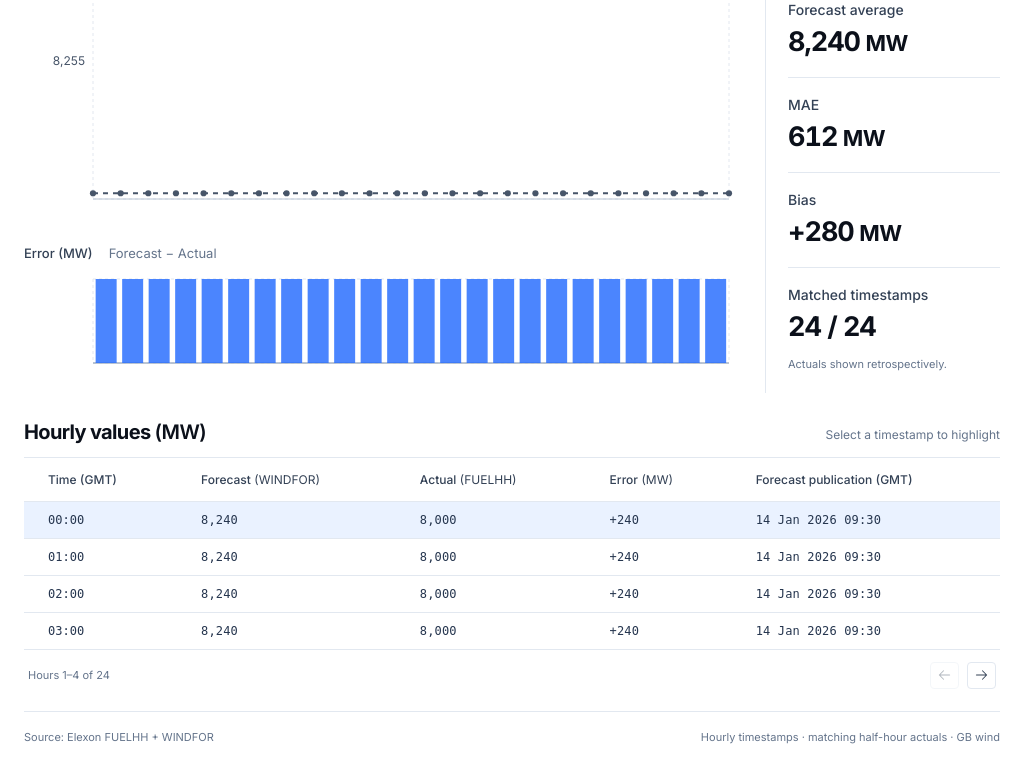
Scenario: core workflow › navigates accuracy and methodology and paginates table
The image size is (1024, 768).
(page scrolled)
Expected: the text "8,240" is shown, [788,25,860,58]
Step 1. Click the button named "Next hours" → (982, 675), box [967,662,996,689]
(page scrolled)
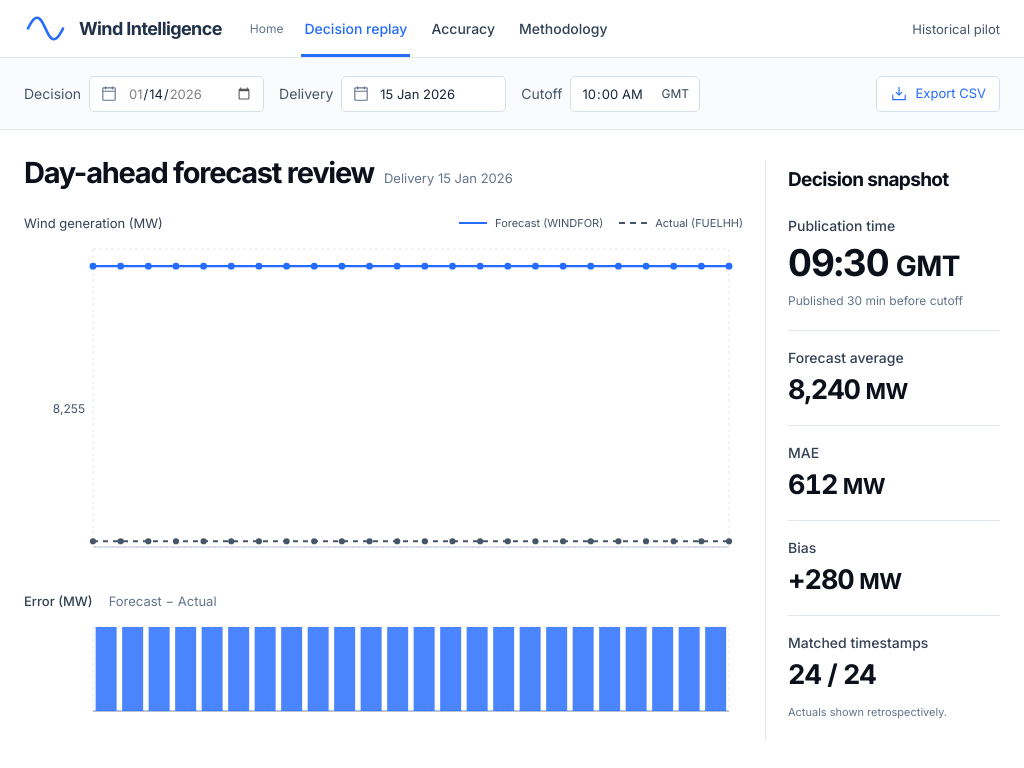
Step 2. Click the tab "Accuracy" → (463, 28), box [428,0,498,57]
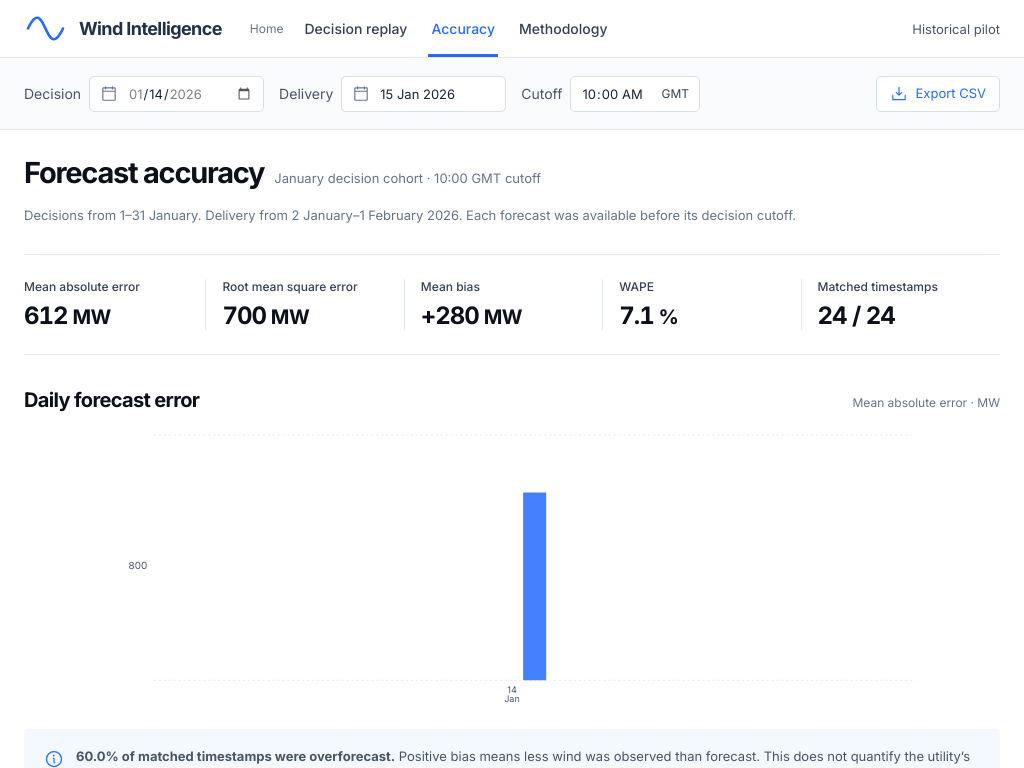
Expected: the heading "Forecast accuracy" is shown, [24,156,264,191]
Step 3. Click the tab "Methodology" → (563, 28), box [516,0,610,57]
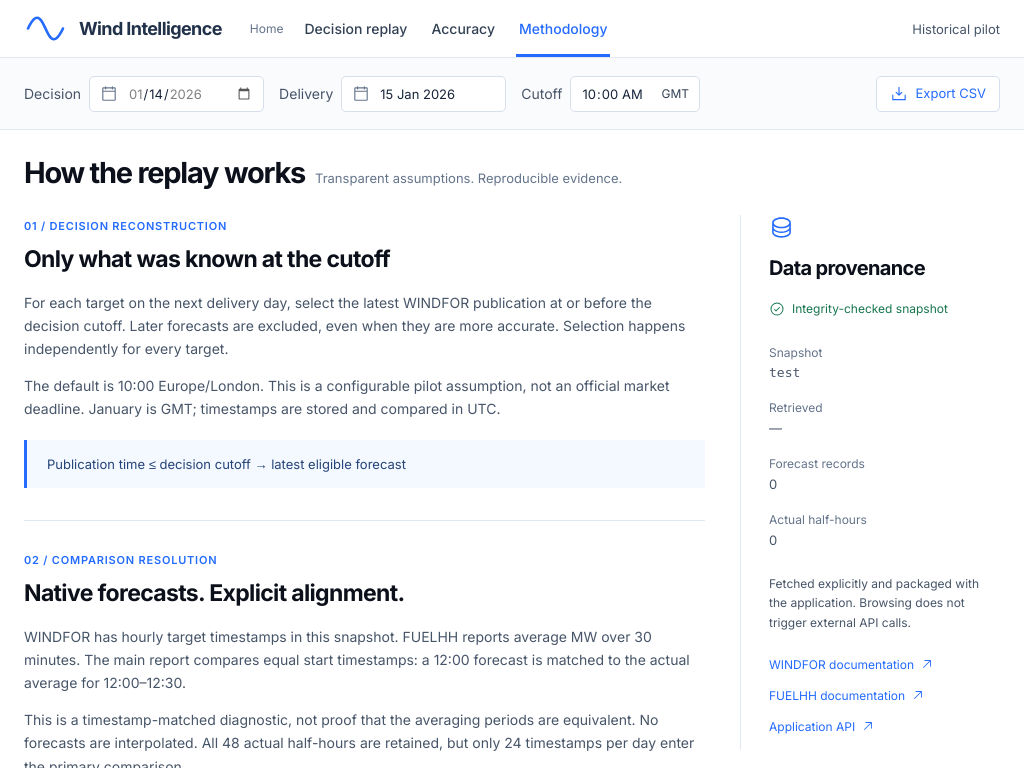
Expected: the heading "How the replay works" is shown, [24,156,305,191]
Expected: the text "not an official market deadline" is shown, [24,377,670,417]
